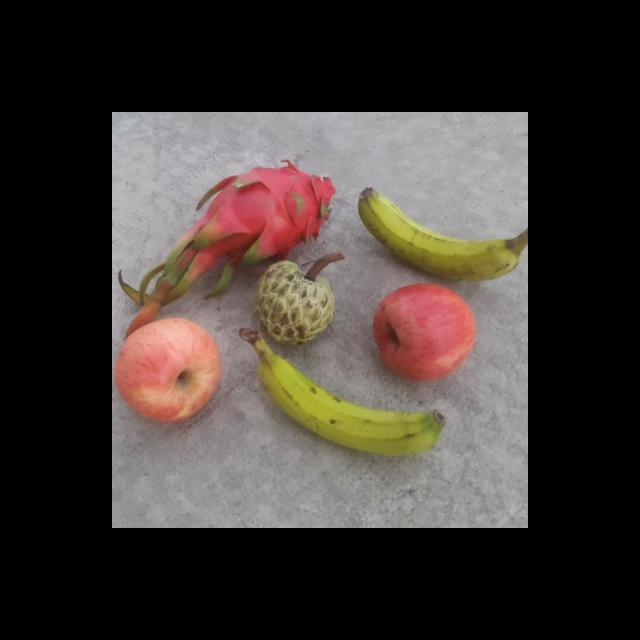Sakya fruit: (252, 254, 344, 344)
apple: (114, 318, 222, 427), (372, 283, 482, 388)
banana: (239, 330, 450, 460), (354, 184, 528, 284)
pitaya: (187, 157, 339, 264)
